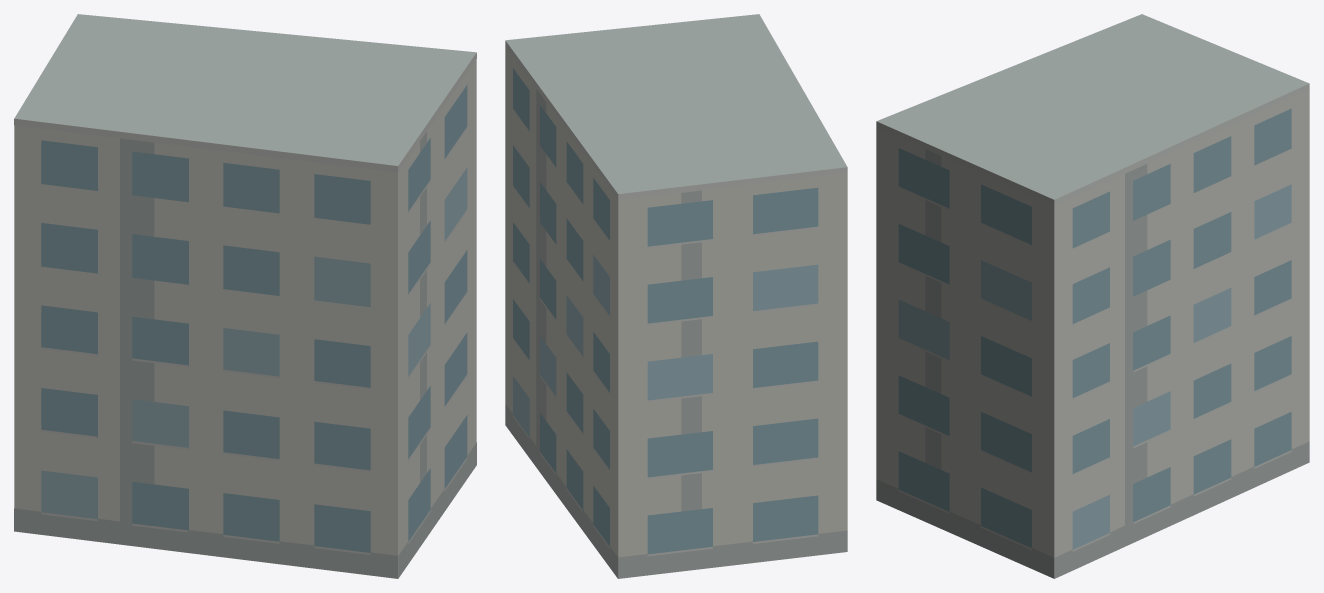
Rendered from survey-upis-32494772.glb.
The picture shows the model from 3 angles, left to right: view 1: azimuth 30°, elevation 25°; view 2: azimuth 150°, elevation 25°; view 3: azimuth 270°, elevation 25°; orthographic projection. The views are drawn at different scales.
Parts seen in each view (by area): view 1: survey-upis-32494772.tmp; view 2: survey-upis-32494772.tmp; view 3: survey-upis-32494772.tmp.
Boxes of the visible parts, x1,y1,x2,y2 form: survey-upis-32494772.tmp: [14, 14, 476, 578]; survey-upis-32494772.tmp: [505, 14, 847, 578]; survey-upis-32494772.tmp: [876, 14, 1309, 578].
Bounding box in the file's own units: 16.05 × 15.25 × 15.8.
